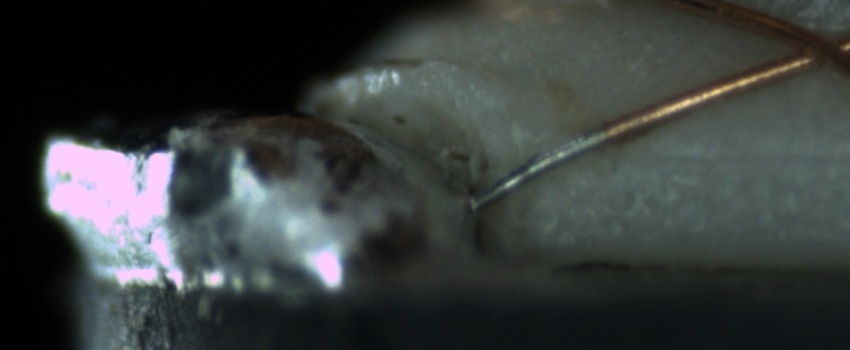CL: (764, 13, 846, 80)
DL: (621, 125, 850, 183)
TS: (473, 130, 613, 205)
